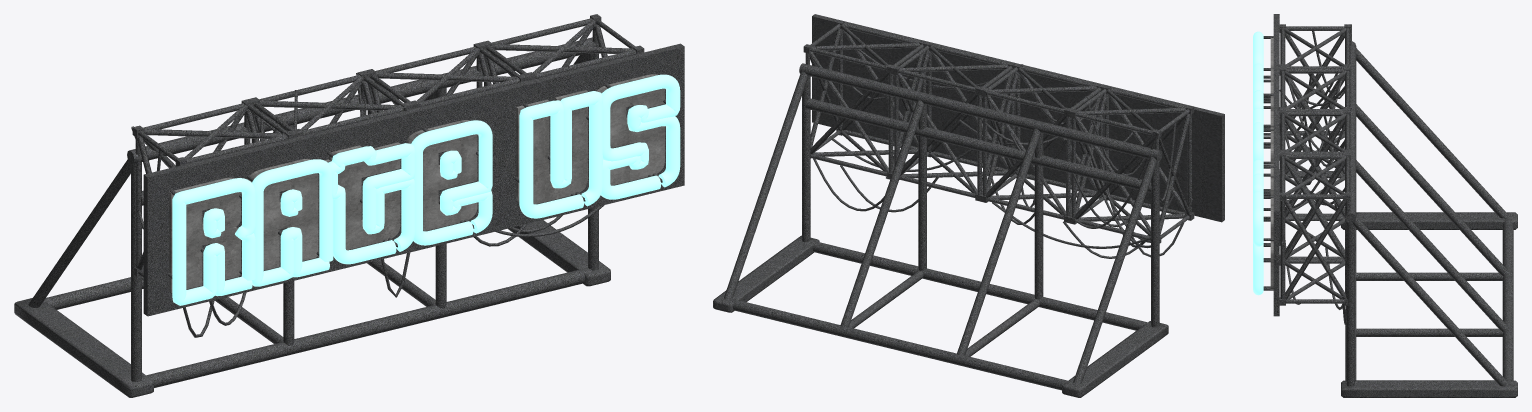
Rendered from Neon Sign.fbx.
3 views of the same model, side by side, from view 1: azimuth 30°, elevation 25°; view 2: azimuth 150°, elevation 25°; view 3: azimuth 270°, elevation 25° (orthographic). The views are drawn at different scales.
Parts seen in each view (by area): view 1: Geo_Sign; view 2: Geo_Sign; view 3: Geo_Sign.
Boxes of the visible parts, x1,y1,x2,y2 form: Geo_Sign: (14, 14, 684, 397); Geo_Sign: (713, 14, 1224, 397); Geo_Sign: (1253, 14, 1517, 397).
Bounding box in the file's own units: 331 × 157 × 188.
Materials: 3 (2 with a texture image).
